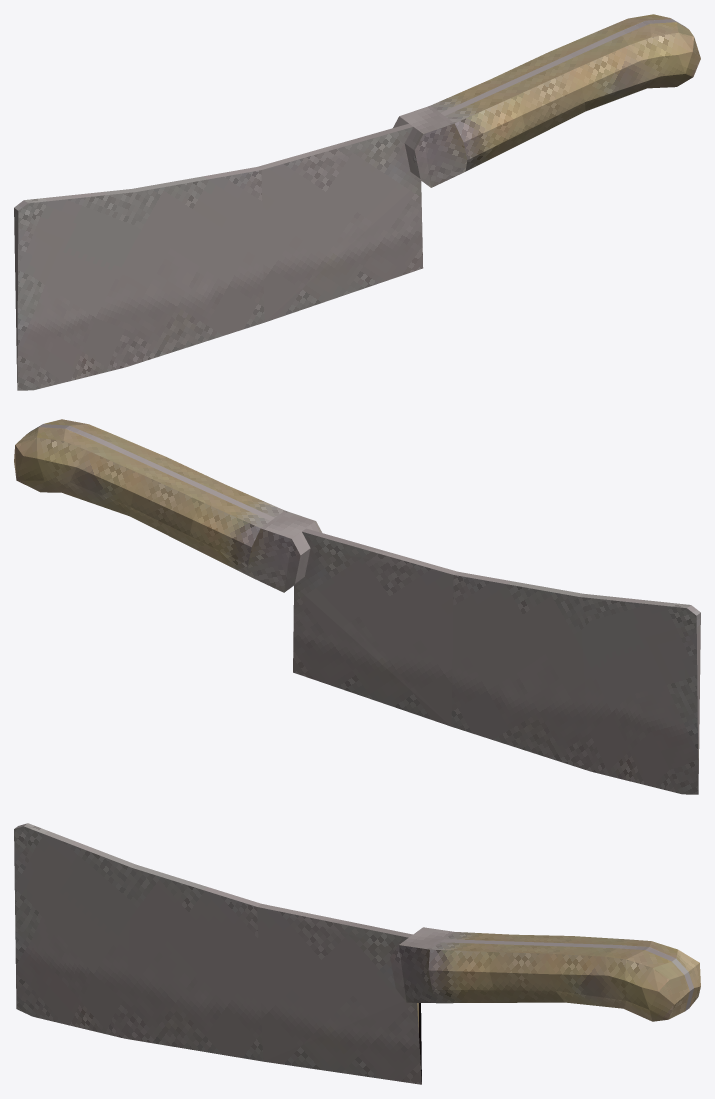
Rendered from cleaver.glb.
3 views of the same model, one above another, from view 1: azimuth 30°, elevation 25°; view 2: azimuth 150°, elevation 25°; view 3: azimuth 330°, elevation 25° (orthographic).
Parts seen in each view (by area): view 1: Cube; view 2: Cube; view 3: Cube.
Part boxes in pixels (box(x1,y1,x2,y2)): Cube: box(14, 14, 700, 390); Cube: box(14, 419, 700, 794); Cube: box(14, 823, 700, 1084).
Size of the model in its own units: 11.9 by 3.66 by 1.1.
Materials: 1 (1 with a texture image).
